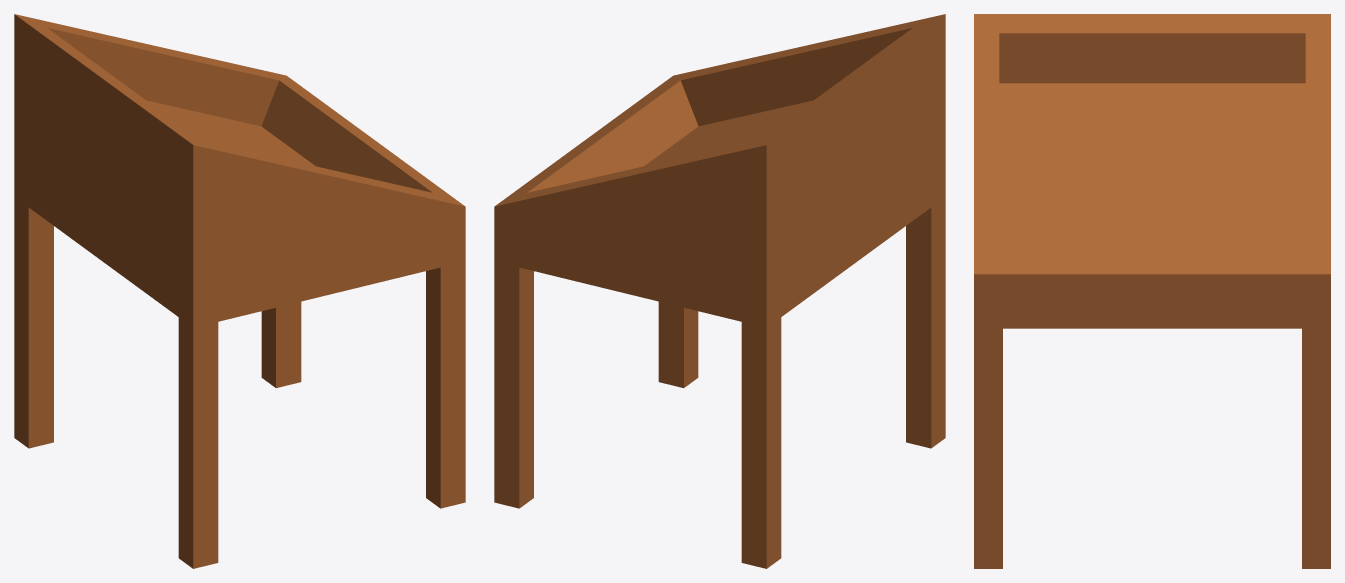
Rendered from Стелаж овощи фрукты.fbx.
3 renders of one model, left to right at view 1: azimuth 30°, elevation 25°; view 2: azimuth 150°, elevation 25°; view 3: azimuth 270°, elevation 25°, orthographic.
Parts seen in each view (by area): view 1: Cube.032; view 2: Cube.032; view 3: Cube.032.
Boxes of the visible parts, x1=… form: Cube.032: x1=14, y1=14, x2=465, y2=568; Cube.032: x1=494, y1=14, x2=945, y2=568; Cube.032: x1=974, y1=14, x2=1330, y2=568.
Size of the model in its own units: 200 by 297 by 228.
